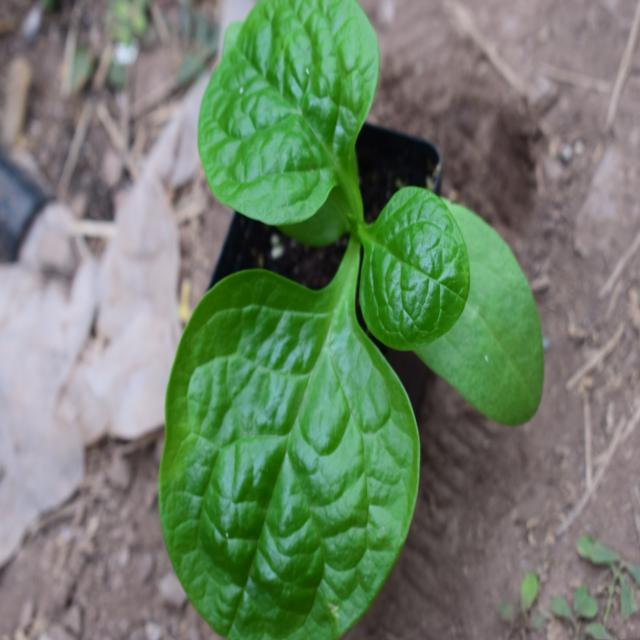Ceylon spinach: (188, 16, 530, 604)
